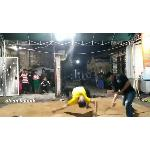Celurit: (104, 99, 120, 117)
